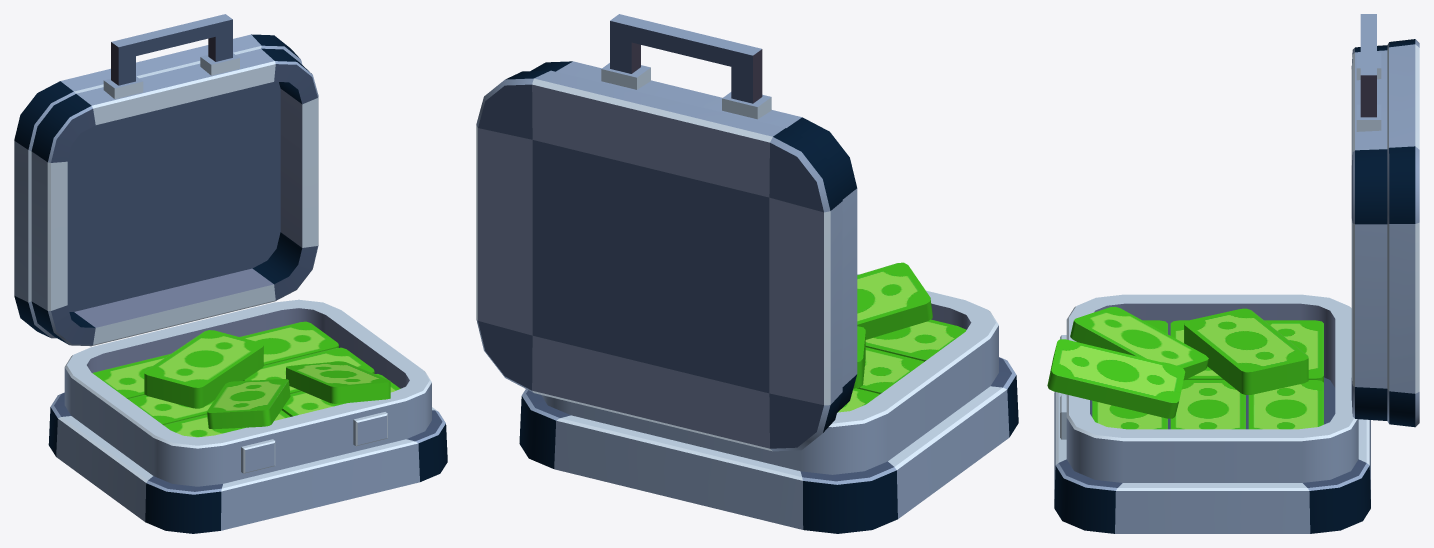
The model's file is Money_Case.fbx.
The picture shows the model from 3 angles, left to right: view 1: azimuth 30°, elevation 25°; view 2: azimuth 150°, elevation 25°; view 3: azimuth 270°, elevation 25°; orthographic projection. The views are drawn at different scales.
Visible parts, largest first — view 1: Money_Case, Moneycase; view 2: Money_Case, Moneycase; view 3: Money_Case, Moneycase.
Boxes of the visible parts, x1,y1,x2,y2 form: Money_Case: (14,14,447,533); Moneycase: (92,321,400,437); Money_Case: (476,14,1018,533); Moneycase: (838,262,966,412); Money_Case: (1054,14,1419,533); Moneycase: (1047,306,1323,429).
Bounding box in the file's own units: 78.21 × 94.21 × 77.93.
